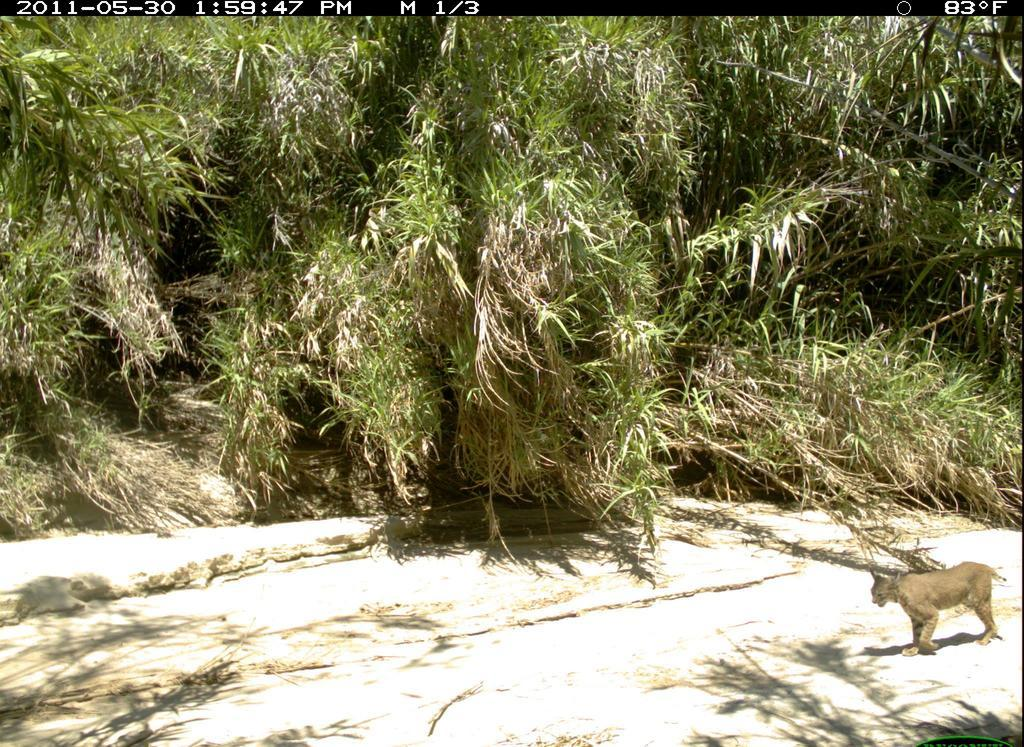bobcat: (866, 559, 1010, 670)
